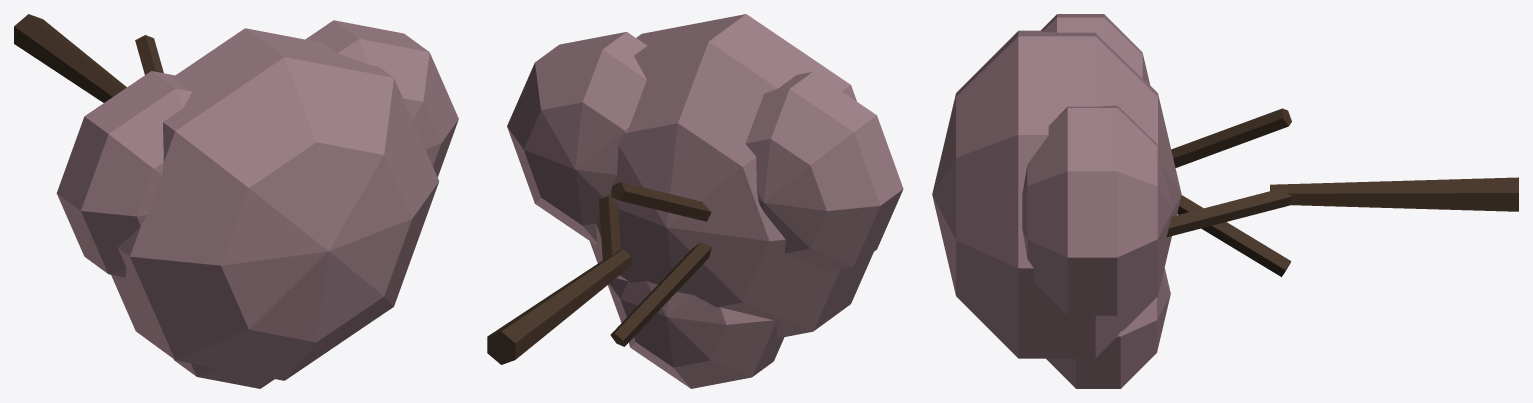
The model's file is tree-blossom.glb.
3 renders of one model, left to right at view 1: azimuth 30°, elevation 25°; view 2: azimuth 150°, elevation 25°; view 3: azimuth 270°, elevation 25°, orthographic. The views are drawn at different scales.
Visible parts, largest first — view 1: tree-blossom; view 2: tree-blossom; view 3: tree-blossom.
Part boxes in pixels (x1,y1,x2,y2): tree-blossom: (14, 14, 458, 388); tree-blossom: (487, 14, 903, 388); tree-blossom: (932, 14, 1518, 388).
Bounding box in the file's own units: 3.65 × 3.23 × 4.95.
